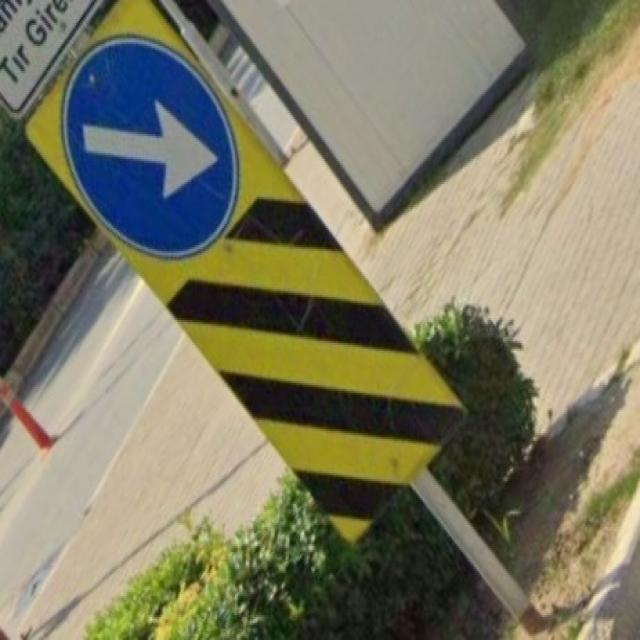Turn Right: (46, 32, 244, 267)
